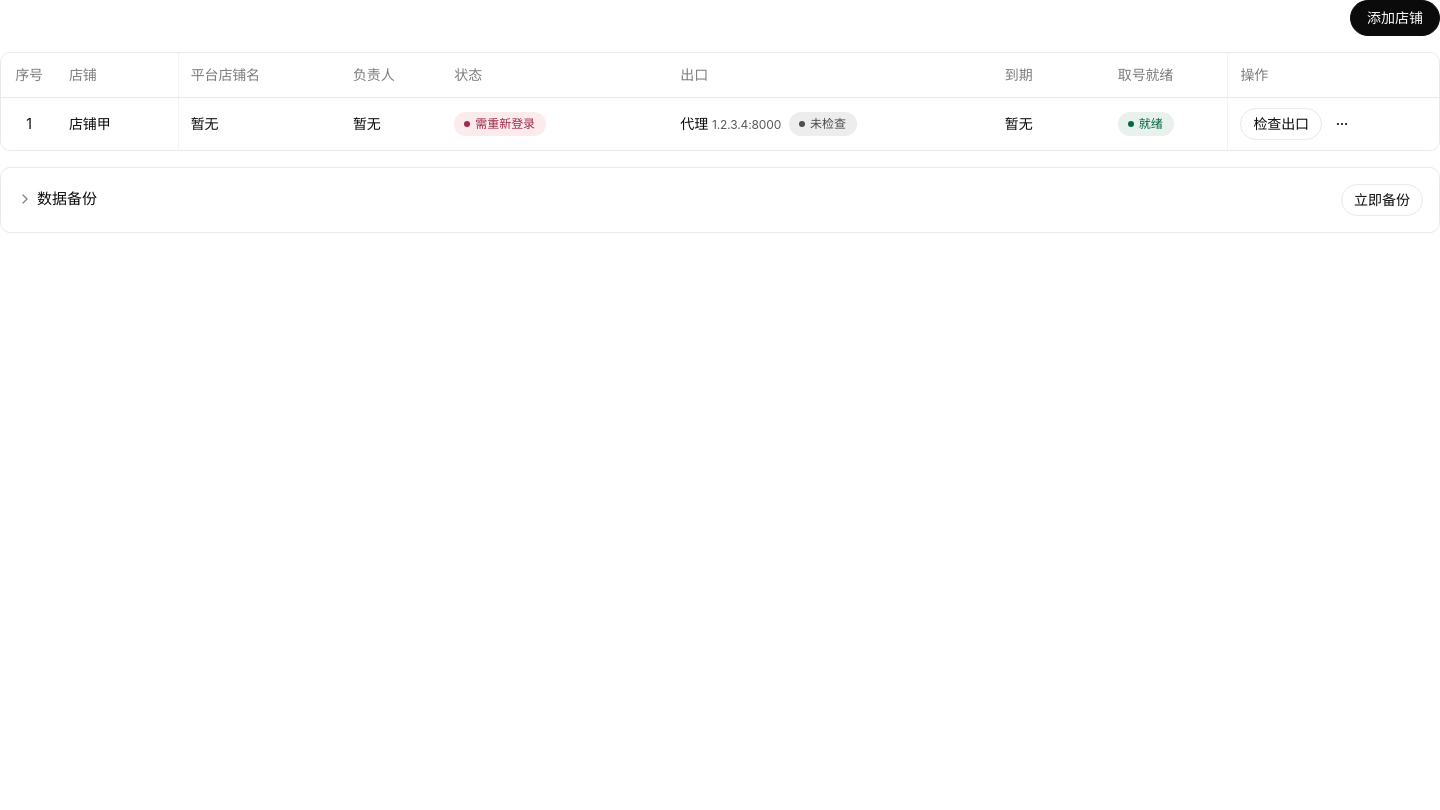
Scenario: 设置出口 › 粘贴代理商一行并保存：提交 paste 字段
Click the button named "更多操作". click: (1342, 124)
box: [1326,108,1358,140]
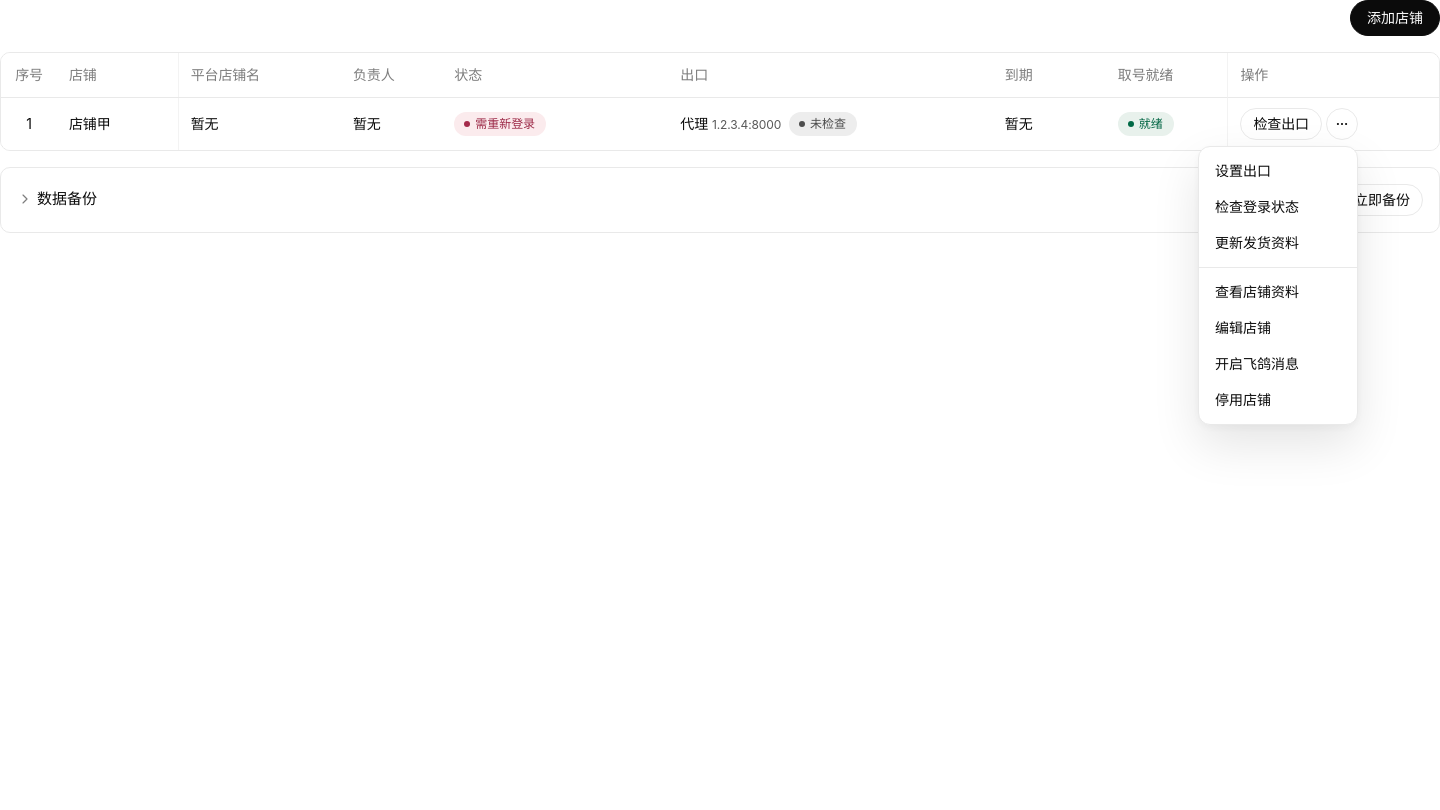
Click the menu item "设置出口". click: (1243, 171)
box: [1215,162,1271,179]
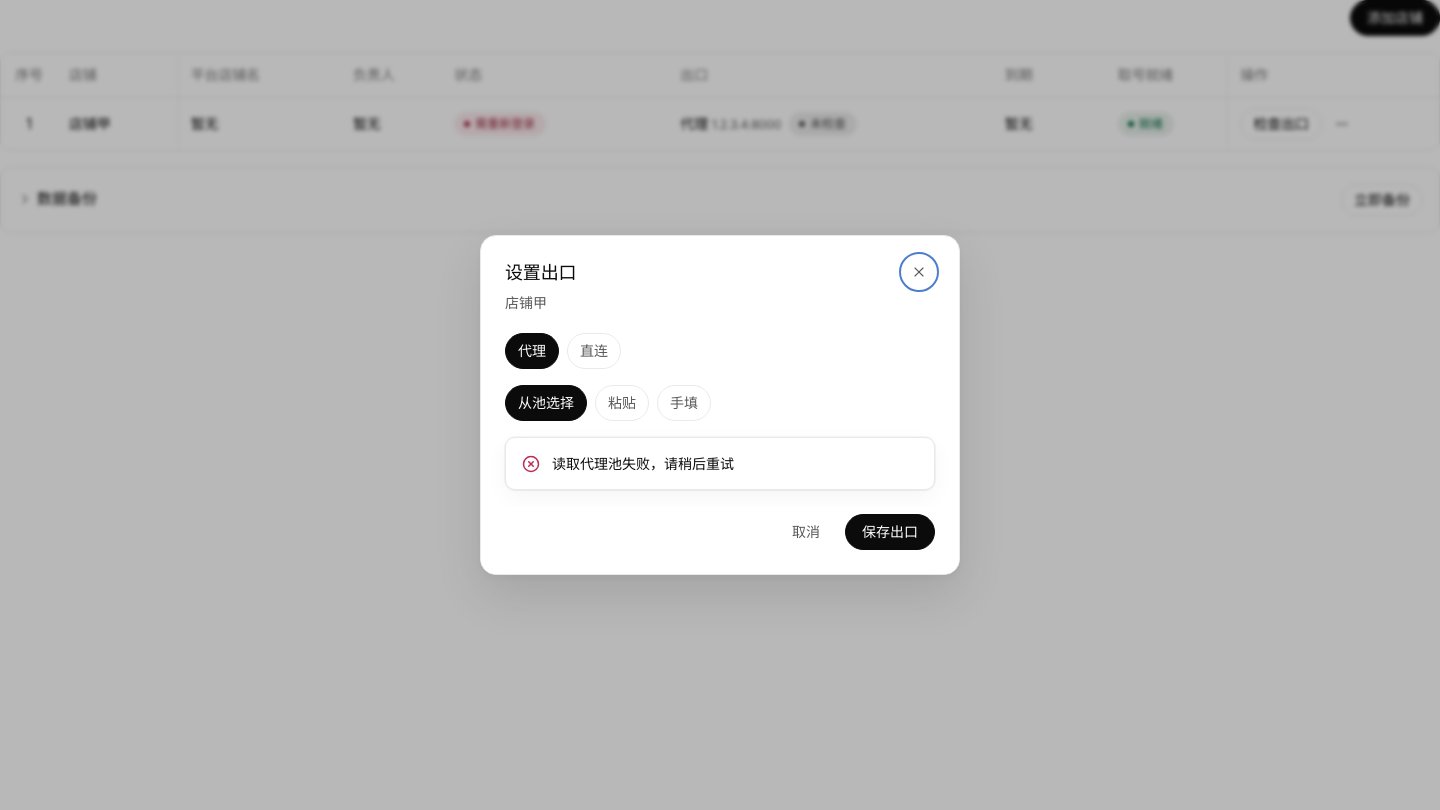
Click the button "粘贴". click: (622, 403)
box: [595,385,649,421]
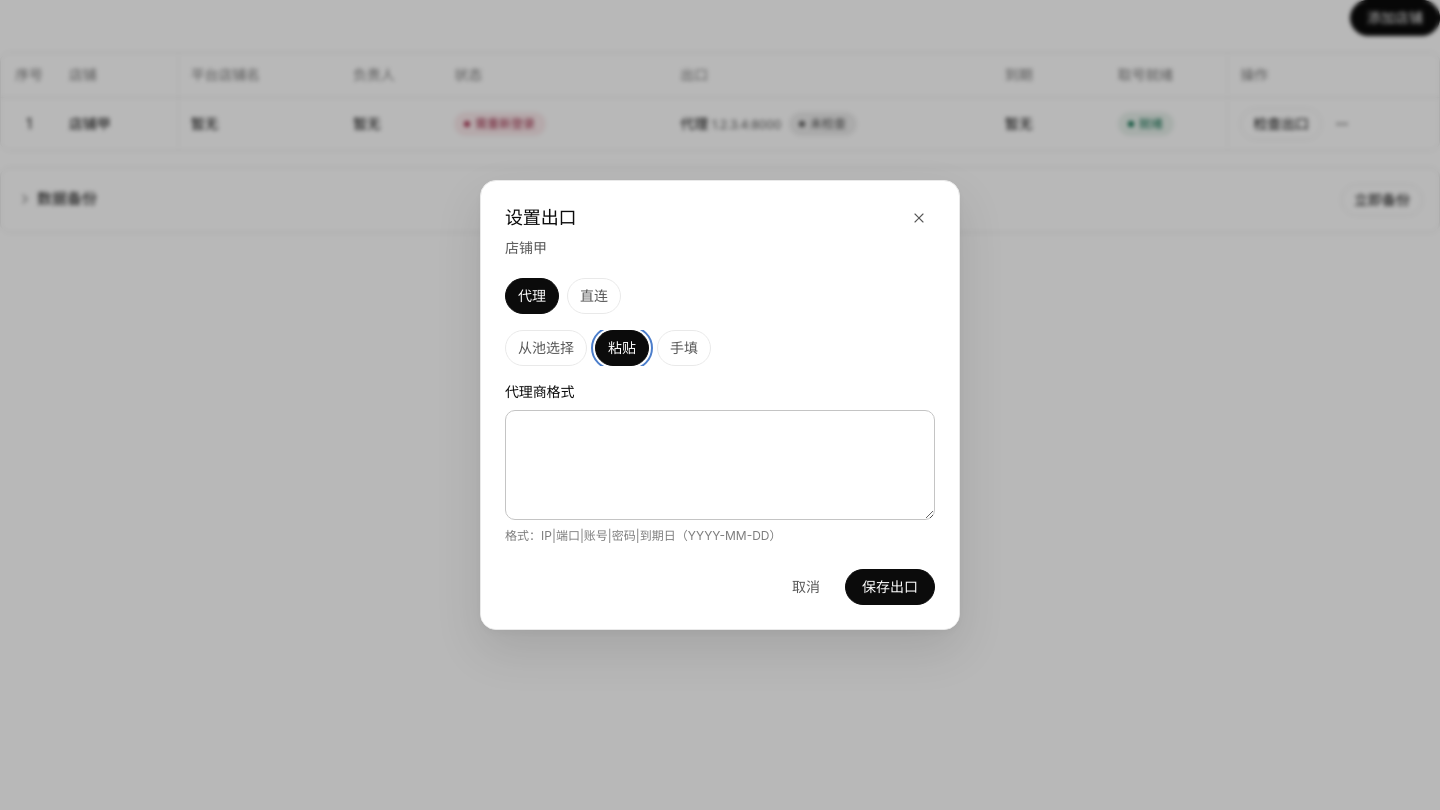
Type "1.2.3.4|8000|user|pass|2026-12-31" into the text box labelled "代理商格式". click: (720, 465)
box: [505,410,935,520]
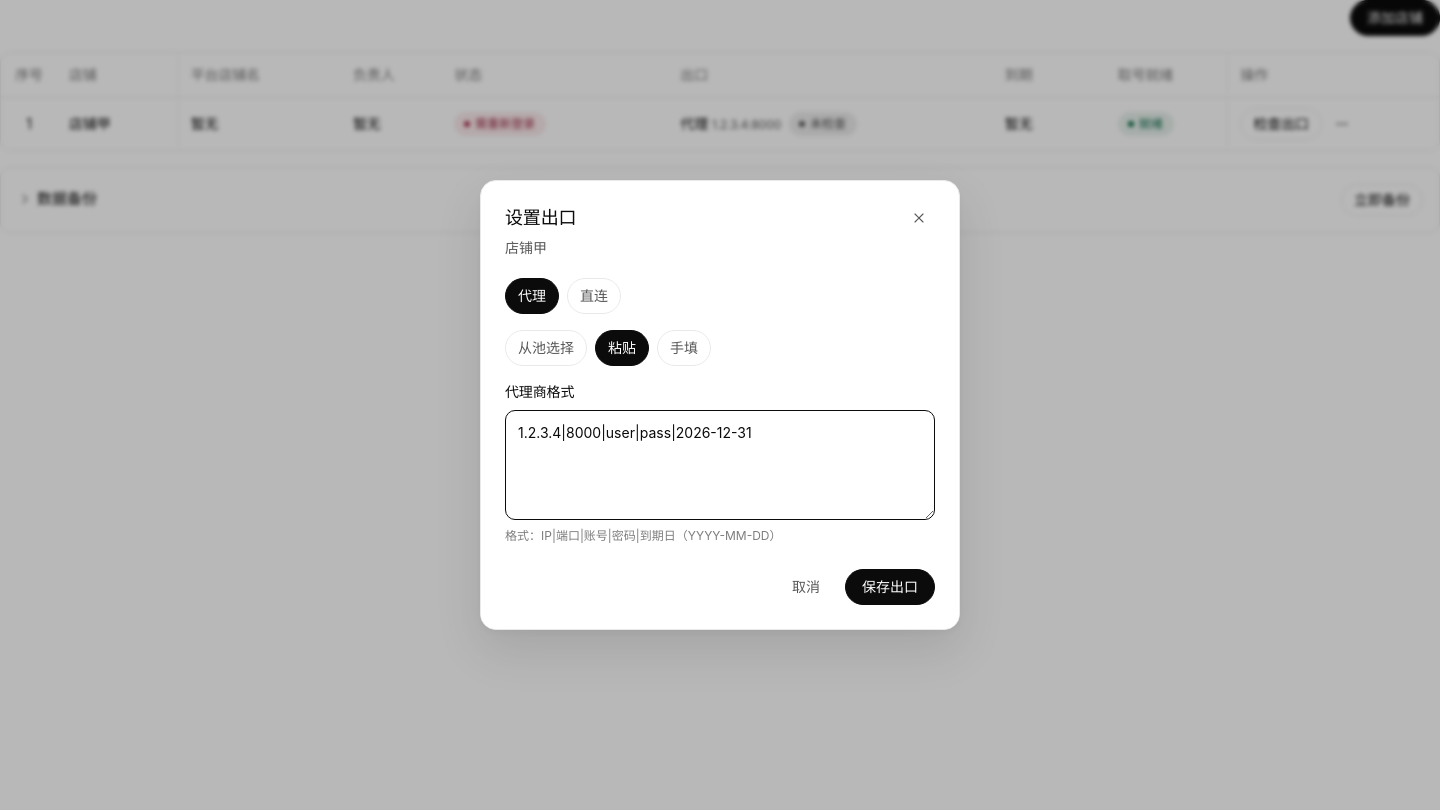
Click the button "保存出口". click: (890, 587)
box: [845,569,935,605]
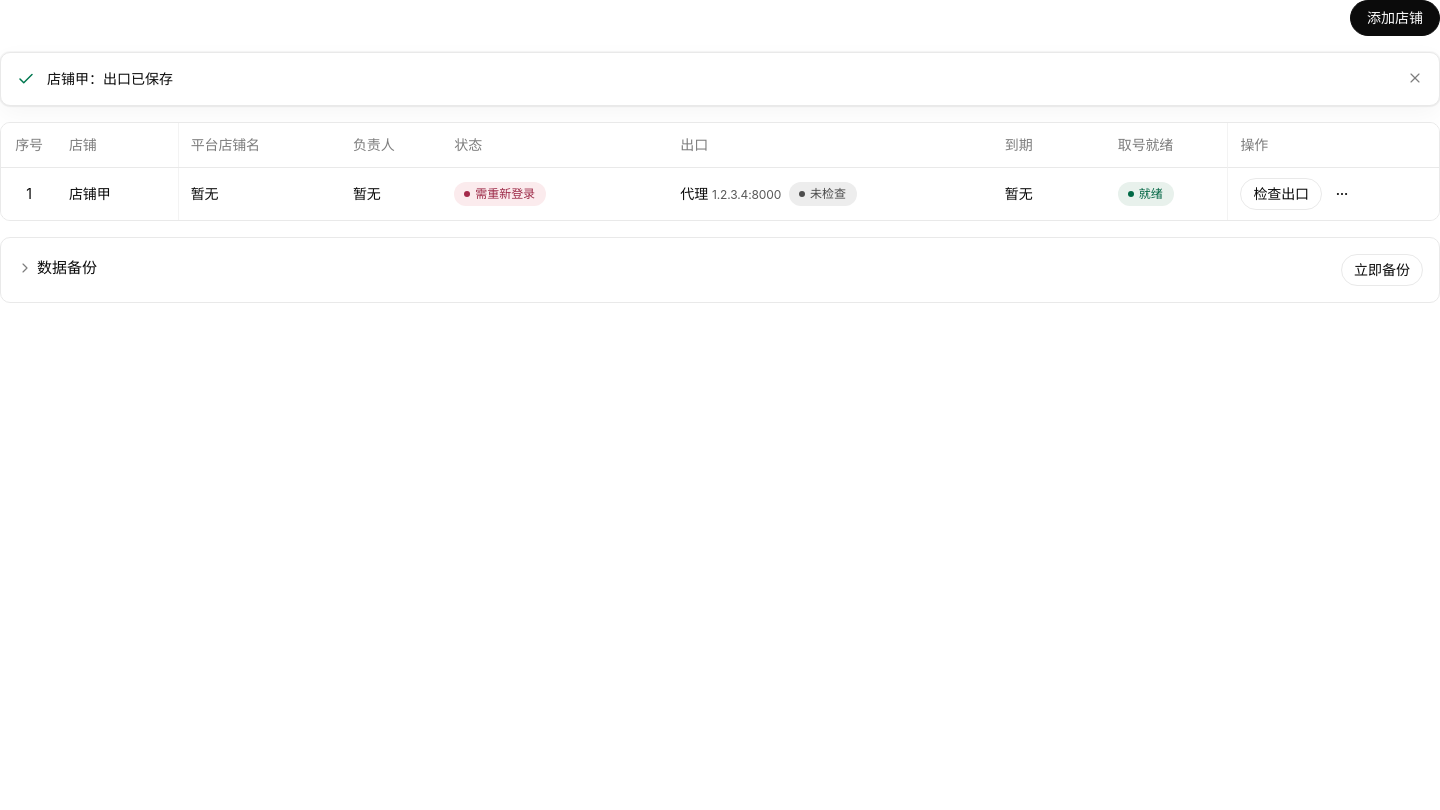
expect the dialog is gone: met
